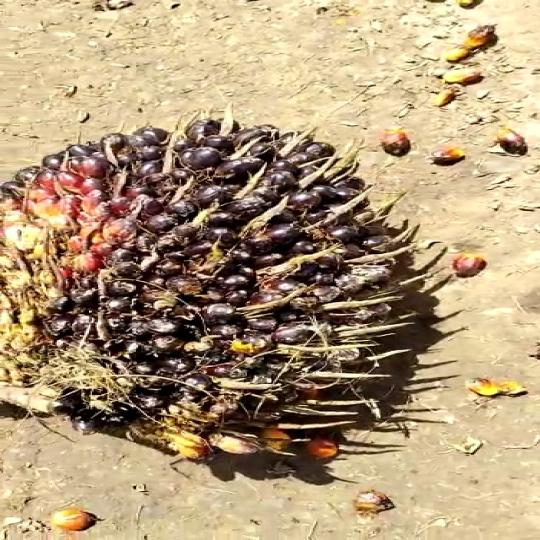mentah: (0, 104, 434, 477)
